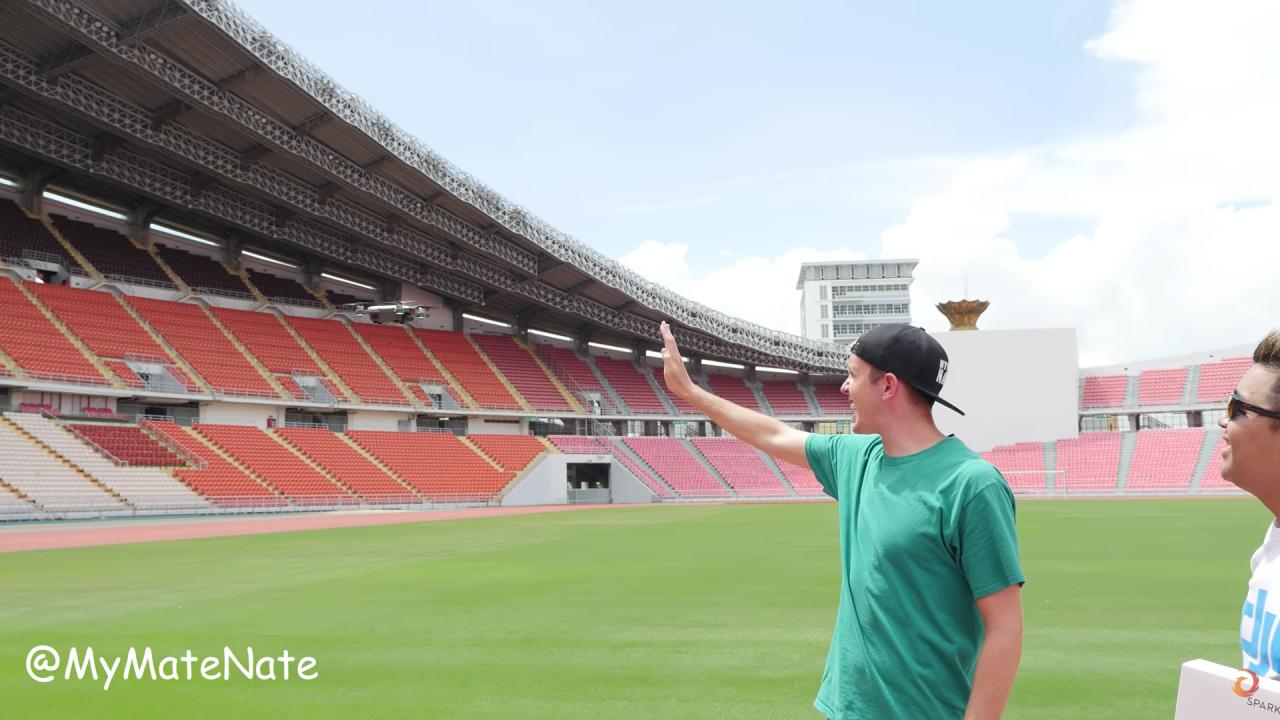Drone: (332, 280, 448, 342)
